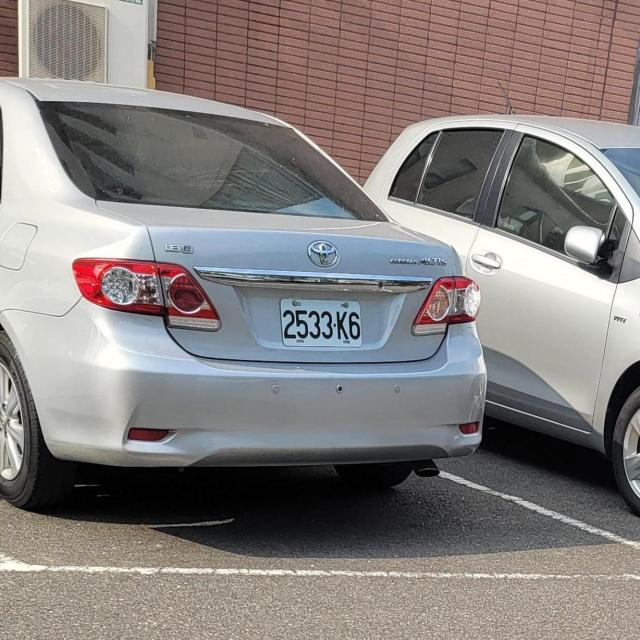W: (270, 294, 370, 354)
